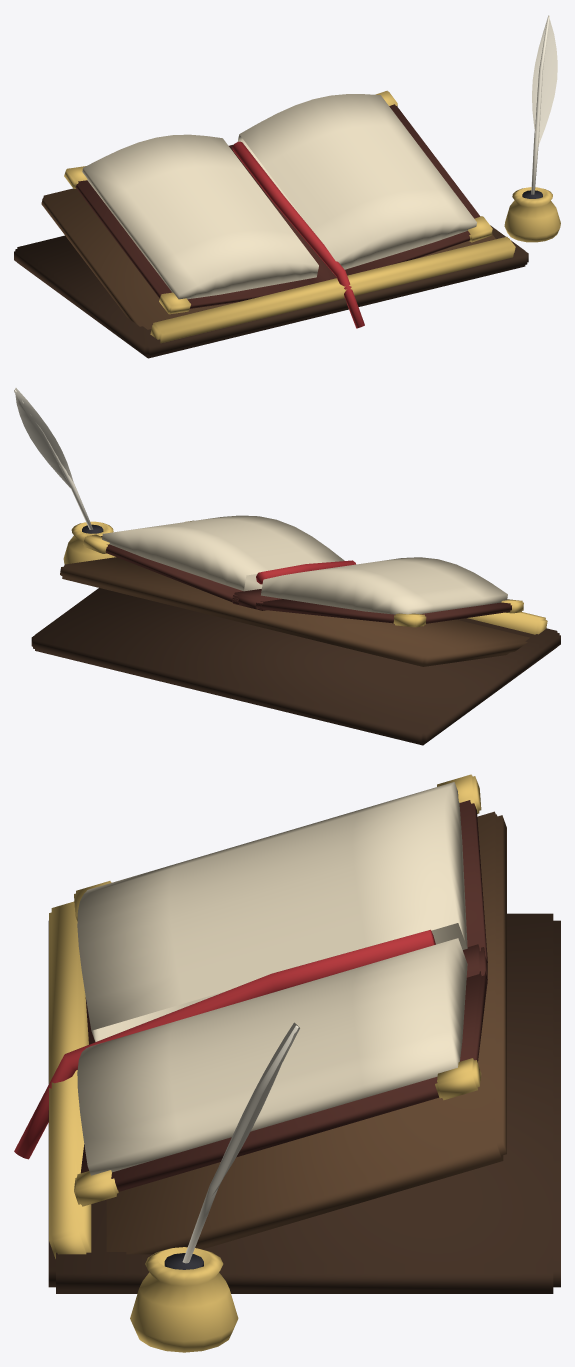
File: settings_desk_ledger.glb
3 renders of one model, top to bottom at view 1: azimuth 30°, elevation 25°; view 2: azimuth 150°, elevation 25°; view 3: azimuth 270°, elevation 25°, orthographic. The views are drawn at different scales.
Visible parts, largest first — view 1: Pages_1, Pages_-1, LecternBase, LecternLip, LecternSlope, Cover_-1, BookmarkRibbon, InkwellBody, Cover_1, QuillVane, QuillShaft, SpineLeather (+1 smaller); view 2: LecternBase, LecternSlope, Pages_1, Pages_-1, Cover_-1, Cover_1, QuillVane, InkwellBody, LecternLip, BookmarkRibbon, SpineLeather, QuillShaft; view 3: Pages_-1, LecternBase, Pages_1, LecternSlope, LecternLip, Cover_1, InkwellBody, BookmarkRibbon, Cover_-1, QuillShaft, Corner_1_1, Corner_1_-1 (+2 smaller).
Boxes of the visible parts, <box> form: Pages_1: <box>237,94,476,269</box>; Pages_-1: <box>82,134,318,299</box>; LecternBase: <box>14,225,528,358</box>; LecternLip: <box>150,237,515,343</box>; LecternSlope: <box>41,188,495,329</box>; Cover_-1: <box>75,180,310,308</box>; BookmarkRibbon: <box>232,141,364,328</box>; InkwellBody: <box>504,187,560,242</box>; Cover_1: <box>345,104,480,275</box>; QuillVane: <box>532,15,557,144</box>; QuillShaft: <box>531,15,549,194</box>; SpineLeather: <box>229,144,336,284</box>; LecternBase: <box>31,588,560,745</box>; LecternSlope: <box>60,557,529,666</box>; Pages_1: <box>102,515,344,591</box>; Pages_-1: <box>261,557,507,614</box>; Cover_-1: <box>255,599,511,623</box>; Cover_1: <box>101,536,242,604</box>; QuillVane: <box>14,388,73,488</box>; InkwellBody: <box>63,521,115,564</box>; LecternLip: <box>467,612,547,634</box>; BookmarkRibbon: <box>256,560,355,584</box>; SpineLeather: <box>232,589,281,610</box>; QuillShaft: <box>14,390,93,529</box>; Pages_-1: <box>77,782,467,1041</box>; LecternBase: <box>48,913,560,1293</box>; Pages_1: <box>77,938,467,1175</box>; LecternSlope: <box>106,811,506,1254</box>; LecternLip: <box>49,901,91,1258</box>; Cover_1: <box>80,971,487,1191</box>; InkwellBody: <box>130,1247,238,1352</box>; BookmarkRibbon: <box>14,929,435,1159</box>; Cover_-1: <box>85,800,487,1044</box>; QuillShaft: <box>182,1025,298,1263</box>; Corner_1_1: <box>435,1058,481,1100</box>; Corner_1_-1: <box>74,1170,118,1206</box>.
Size of the model in its own units: 0.6846 by 0.2768 by 0.363.
